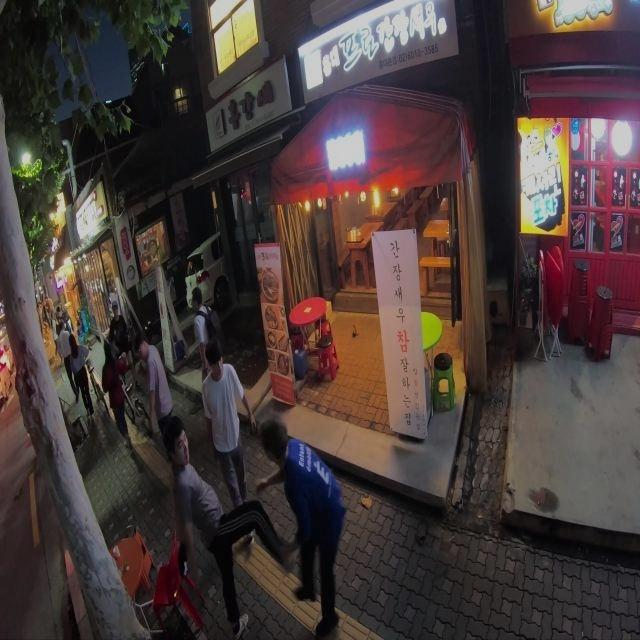fight: (164, 410, 349, 639)
non-fight: (202, 337, 253, 512), (130, 330, 173, 432), (187, 286, 222, 382), (102, 341, 133, 449), (64, 334, 96, 420), (106, 297, 131, 353)
